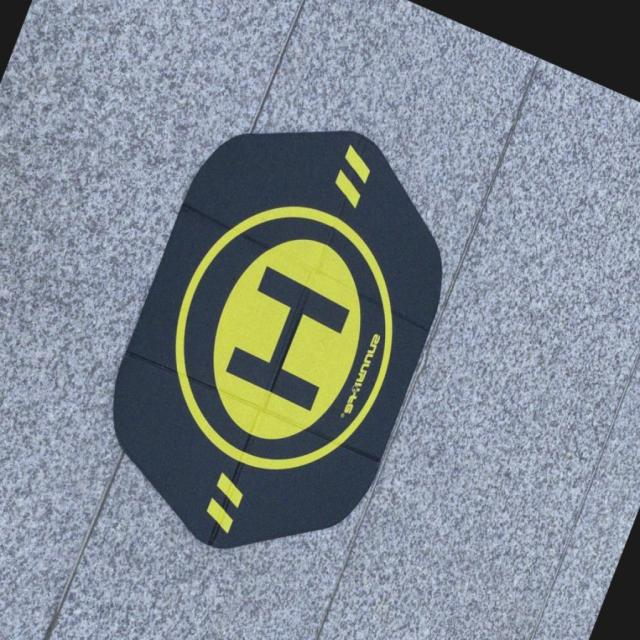helipad: (167, 199, 400, 477)
